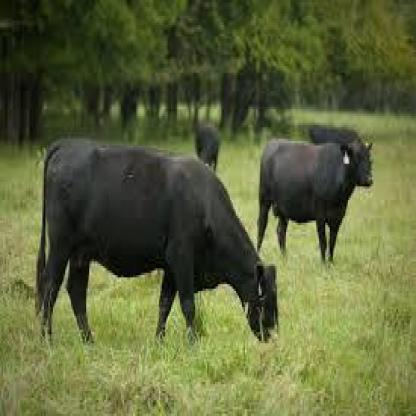cow: (38, 144, 278, 347), (257, 135, 374, 265), (195, 125, 221, 173)
